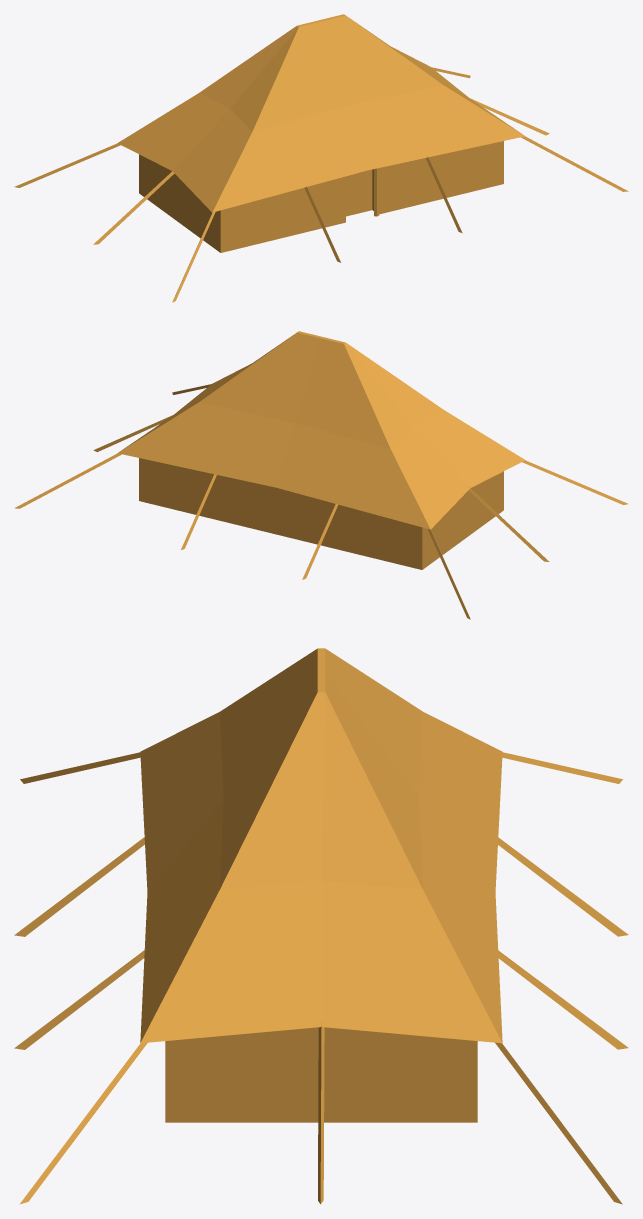
Rendered from tent-bloemfontein-big.fbx.
3 renders of one model, top to bottom at view 1: azimuth 30°, elevation 25°; view 2: azimuth 150°, elevation 25°; view 3: azimuth 270°, elevation 25°, orthographic. The views are drawn at different scales.
Parts seen in each view (by area): view 1: tent-bloemfontein-big; view 2: tent-bloemfontein-big; view 3: tent-bloemfontein-big.
Part boxes in pixels (x1,y1,x2,y2): tent-bloemfontein-big: (14,14,628,302); tent-bloemfontein-big: (14,331,627,619); tent-bloemfontein-big: (14,648,628,1204).
Size of the model in its own units: 11.29 by 3.99 by 6.9.
